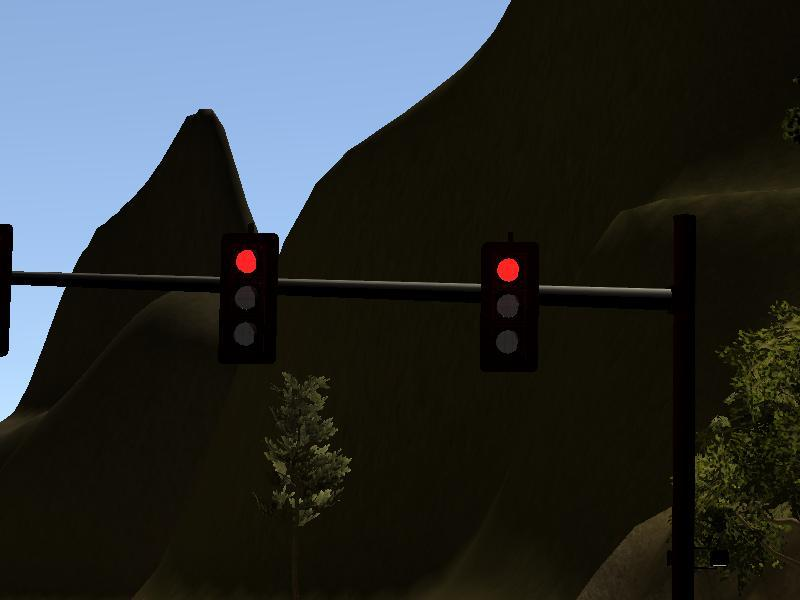Red: (481, 242, 539, 371), (220, 233, 278, 362)
